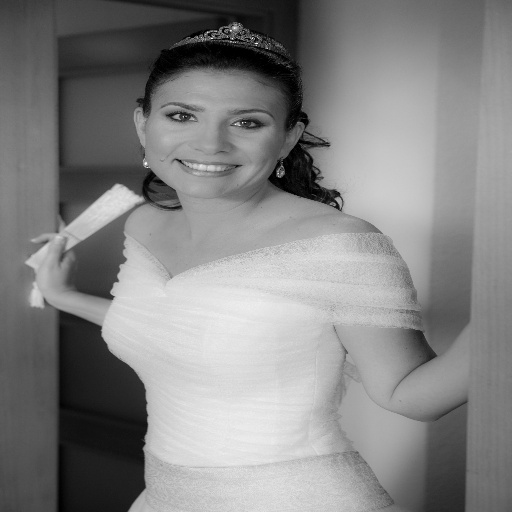hand: (24, 222, 107, 315)
